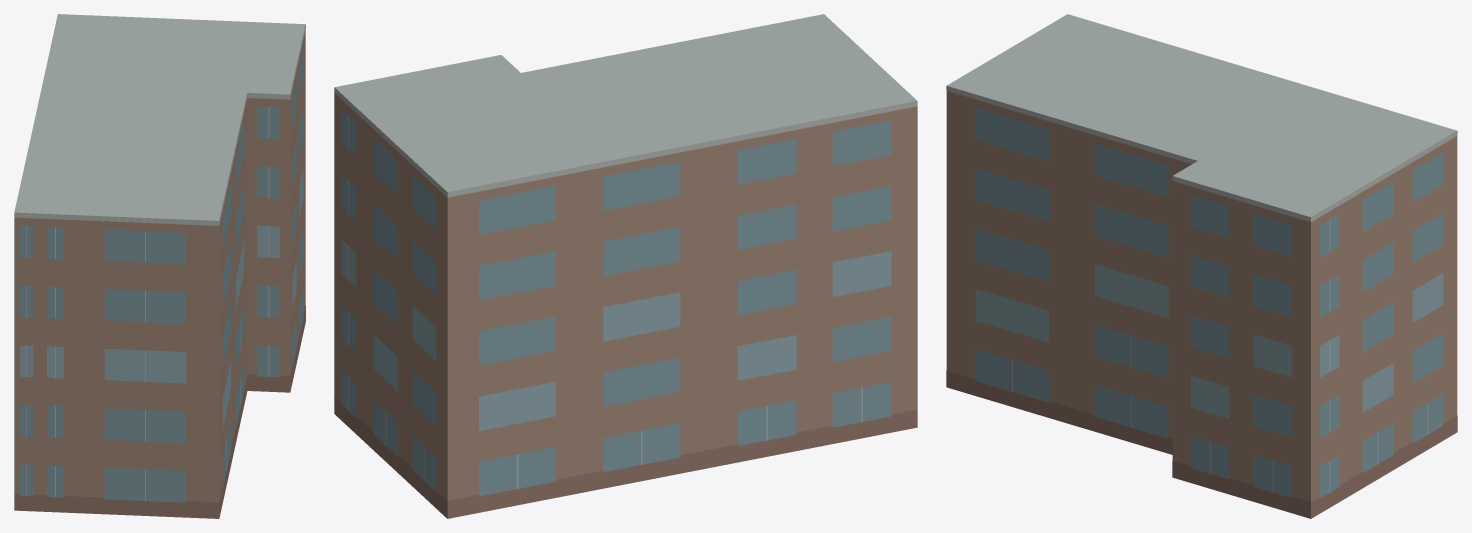
The model's file is survey-upis-32989266.glb.
3 renders of one model, left to right at view 1: azimuth 30°, elevation 25°; view 2: azimuth 150°, elevation 25°; view 3: azimuth 270°, elevation 25°, orthographic. The views are drawn at different scales.
Visible parts, largest first — view 1: survey-upis-32989266.tmp; view 2: survey-upis-32989266.tmp; view 3: survey-upis-32989266.tmp.
Part boxes in pixels (left/top/right/bottom): survey-upis-32989266.tmp: left=14, top=14, right=305, bottom=518; survey-upis-32989266.tmp: left=334, top=14, right=917, bottom=518; survey-upis-32989266.tmp: left=946, top=14, right=1457, bottom=518.
Size of the model in its own units: 20.97 by 14.5 by 22.27.
